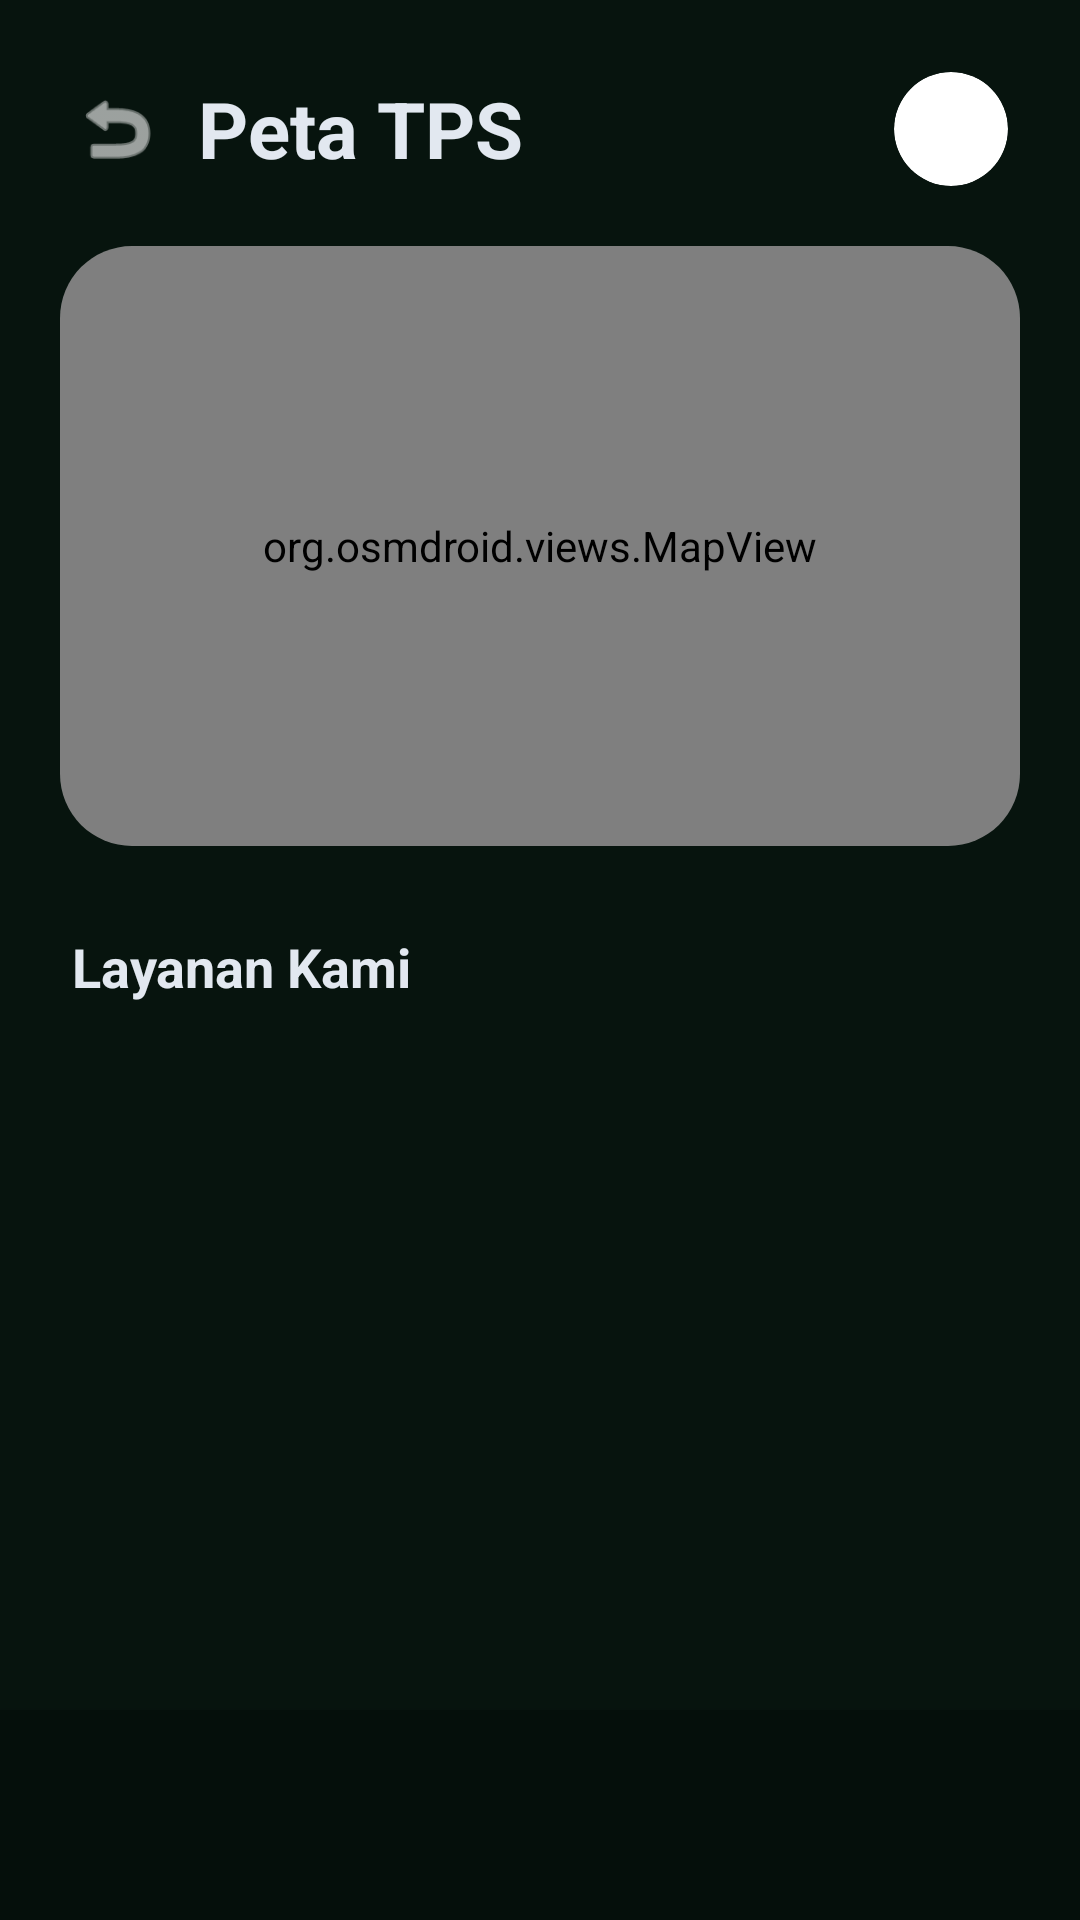

Icon bounding boxes for this 1080 x 1920 phone screenshot, format (x1, y1, x2, y2):
revert: (86, 100, 151, 159)
